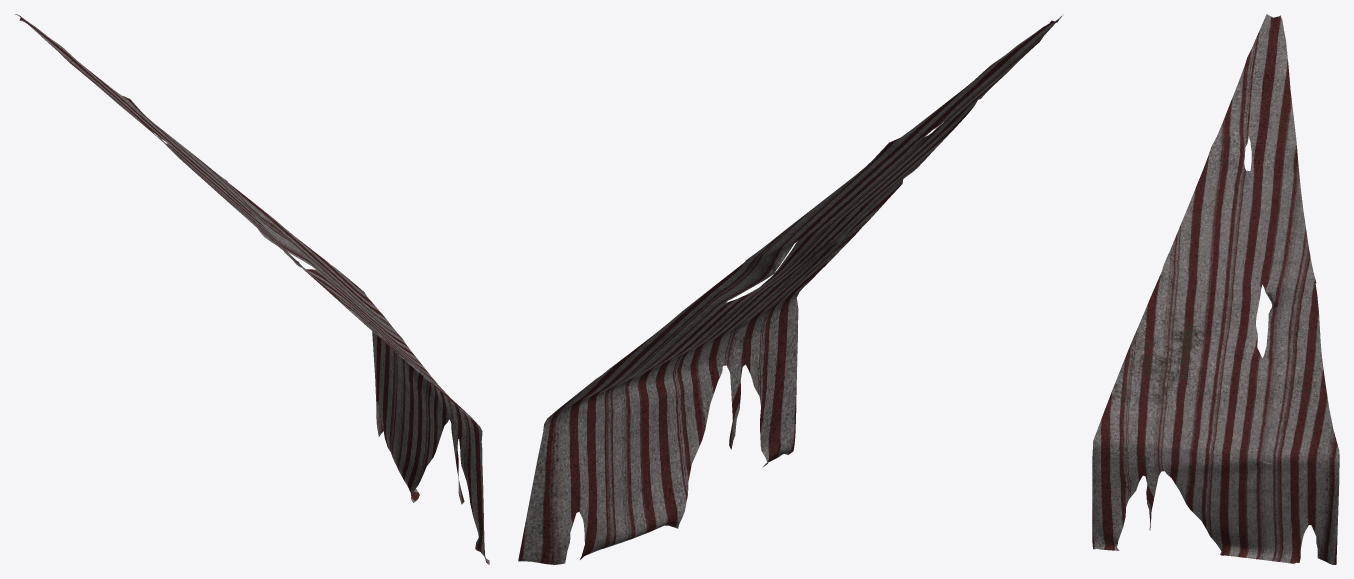
Rendered from Tent_P_Rag09.FBX.
The picture shows the model from 3 angles, left to right: view 1: azimuth 30°, elevation 25°; view 2: azimuth 150°, elevation 25°; view 3: azimuth 270°, elevation 25°; orthographic projection. The views are drawn at different scales.
Visible parts, largest first — view 1: Tent_P_Rag09; view 2: Tent_P_Rag09; view 3: Tent_P_Rag09.
Boxes of the visible parts, x1,y1,x2,y2 form: Tent_P_Rag09: (15,14,489,564); Tent_P_Rag09: (518,14,1063,564); Tent_P_Rag09: (1092,14,1339,564).
Size of the model in its own units: 1375 by 1725 by 944.
